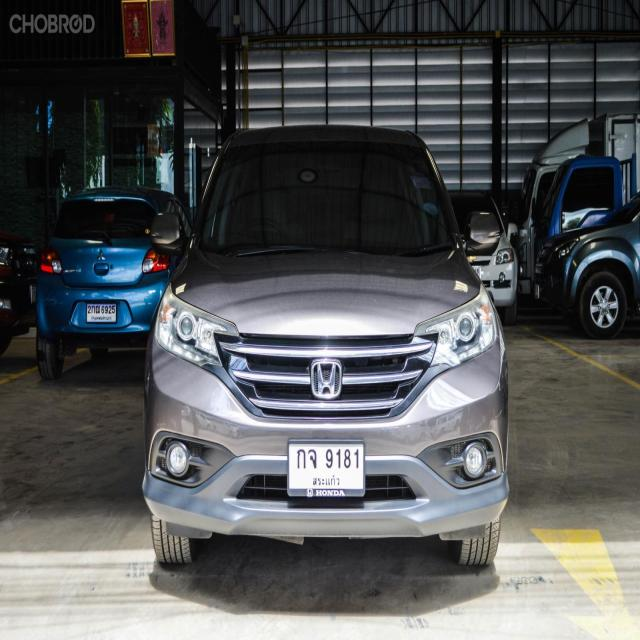license_plate: (286, 438, 366, 499)
